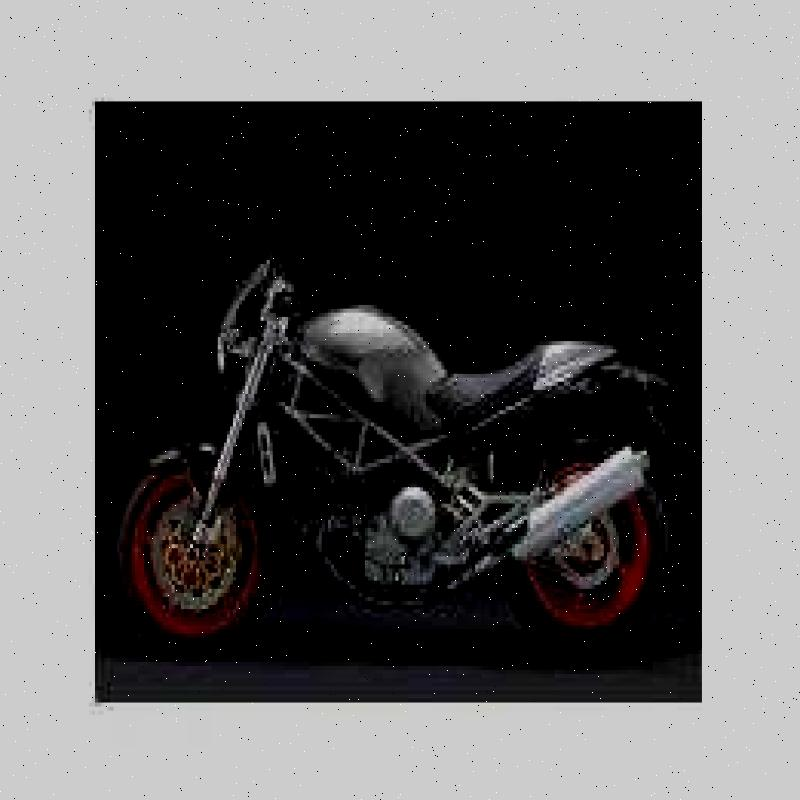bike: (116, 201, 696, 673)
